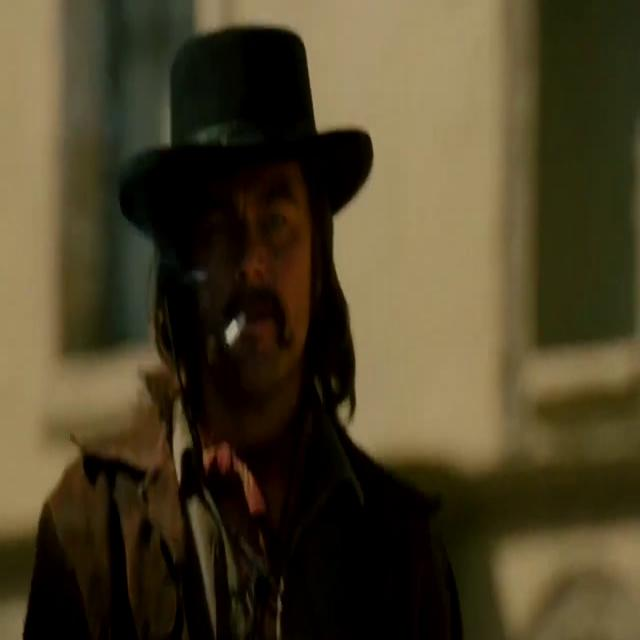Smooking: (219, 301, 245, 362)
